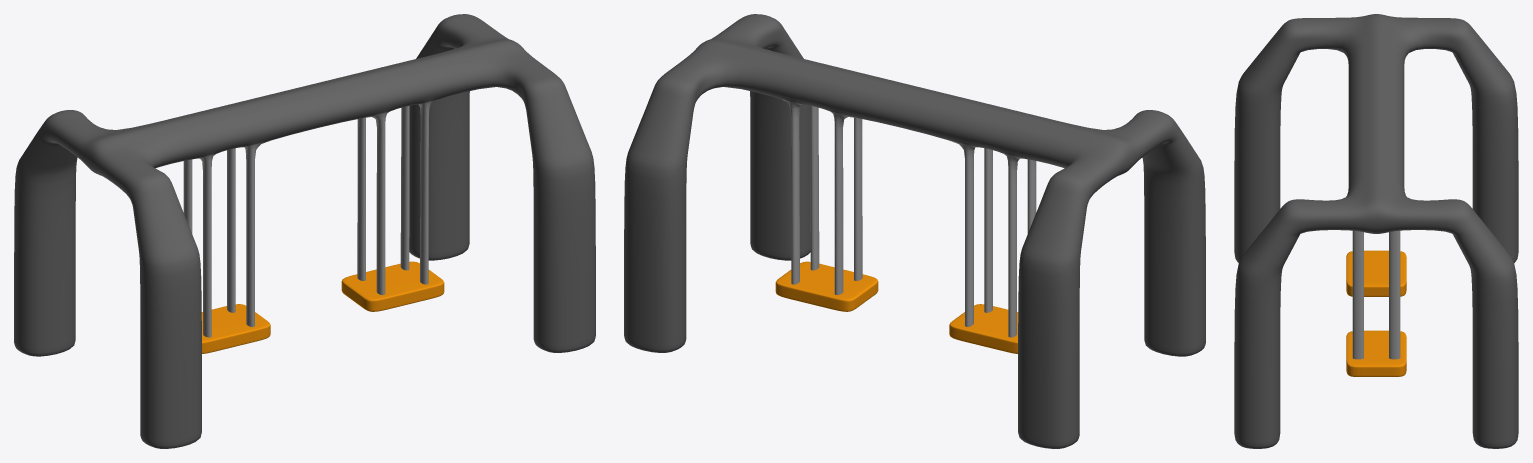
Rendered from columpio.glb.
3 renders of one model, left to right at view 1: azimuth 30°, elevation 25°; view 2: azimuth 150°, elevation 25°; view 3: azimuth 270°, elevation 25°, orthographic. The views are drawn at different scales.
Parts seen in each view (by area): view 1: Cube.004; view 2: Cube.004; view 3: Cube.004.
Part boxes in pixels (box(x1,y1,x2,y2)): Cube.004: box(14, 14, 595, 448); Cube.004: box(624, 14, 1205, 448); Cube.004: box(1234, 14, 1518, 448).
Size of the model in its own units: 1031 by 561 by 599.
